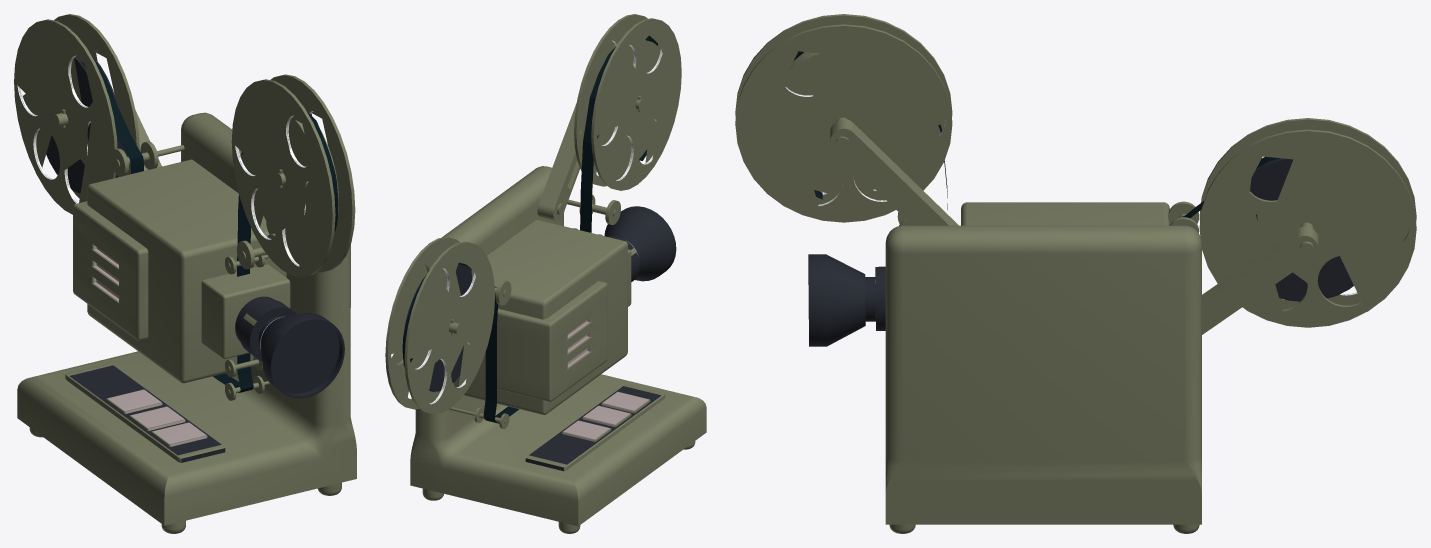
Rendered from Projector.fbx.
The picture shows the model from 3 angles, left to right: view 1: azimuth 30°, elevation 25°; view 2: azimuth 150°, elevation 25°; view 3: azimuth 270°, elevation 25°; orthographic projection. The views are drawn at different scales.
Parts seen in each view (by area): view 1: Cube.032, Cube.033, Cube.021; view 2: Cube.033, Cube.032, Cube.021; view 3: Cube.032, Cube.033, Cube.021.
Boxes of the visible parts, bbox=[...] form: Cube.032: bbox=[17, 112, 356, 533]; Cube.033: bbox=[14, 14, 355, 400]; Cube.021: bbox=[73, 159, 344, 398]; Cube.033: bbox=[385, 14, 681, 429]; Cube.032: bbox=[410, 166, 706, 533]; Cube.021: bbox=[454, 206, 676, 414]; Cube.032: bbox=[885, 225, 1201, 533]; Cube.033: bbox=[735, 14, 1416, 334]; Cube.021: bbox=[808, 202, 1170, 346].
Bounding box in the file's own units: 49.08 × 108 × 140.
